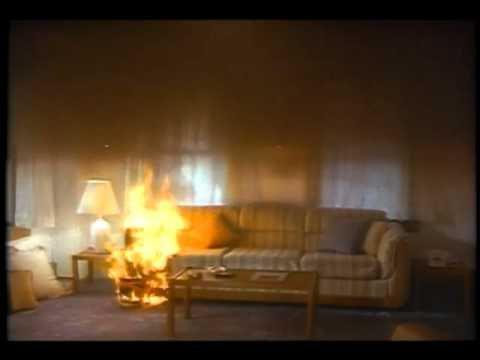fire: (103, 177, 189, 313)
